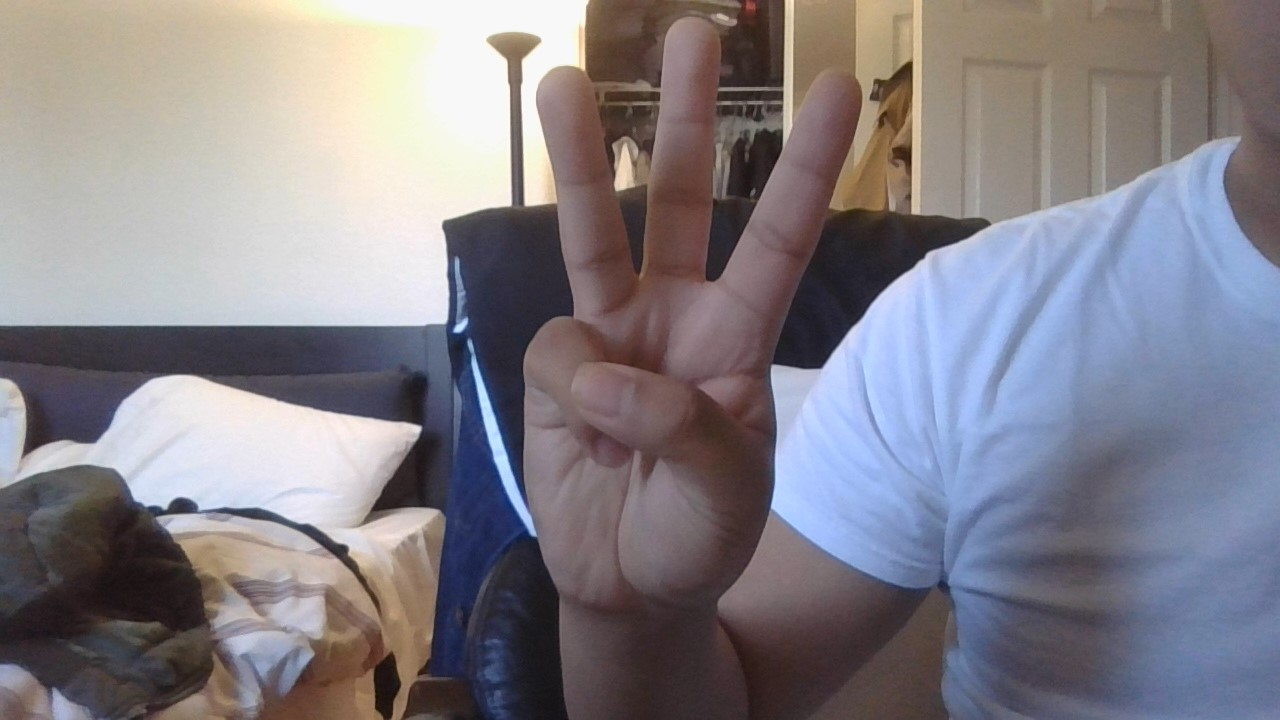w: (474, 9, 882, 622)
